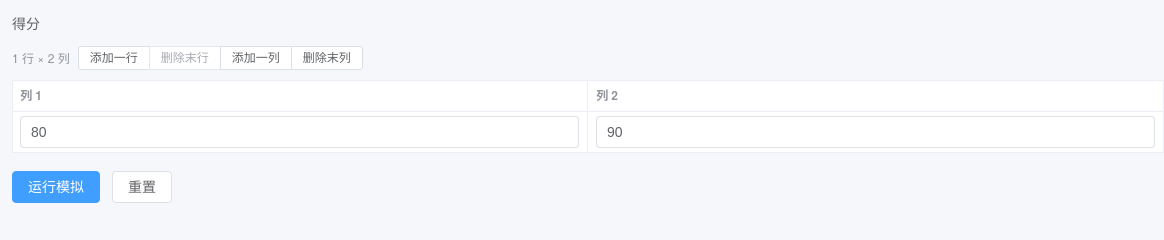
ParamPanel 矩阵参数编辑（CH1-001 无法输入缺陷修复） › 单元格非数字：即时红字且不可提交
The width and height of the screenshot is (1164, 240).
Replace the text in the 1st field with "abc" at (300, 132), box [31, 117, 568, 147]
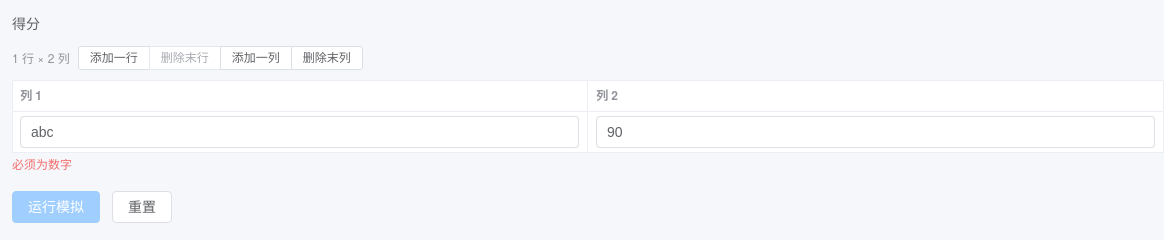
Expected: the text with test id "param-error-scores" reads "必须为数字", [12, 155, 72, 172]
Expected: the button with test id "run-submit" is disabled, [12, 191, 100, 223]
